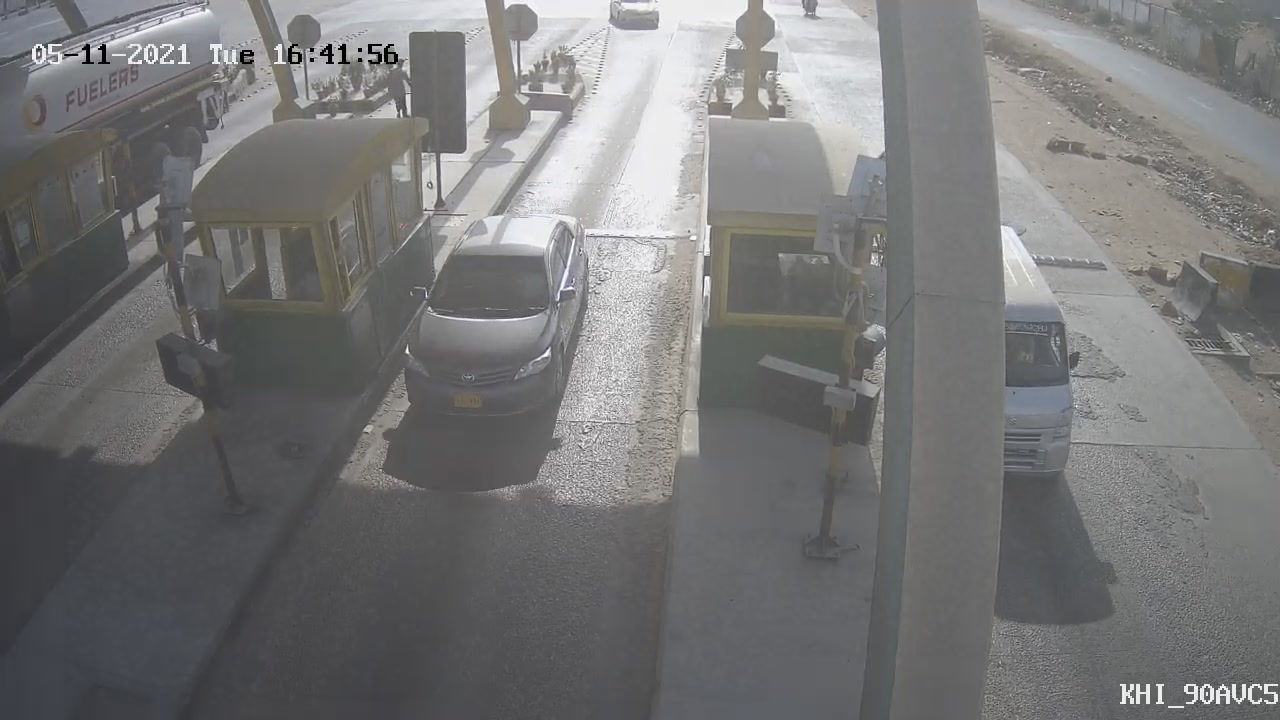F1: (386, 194, 607, 444)
